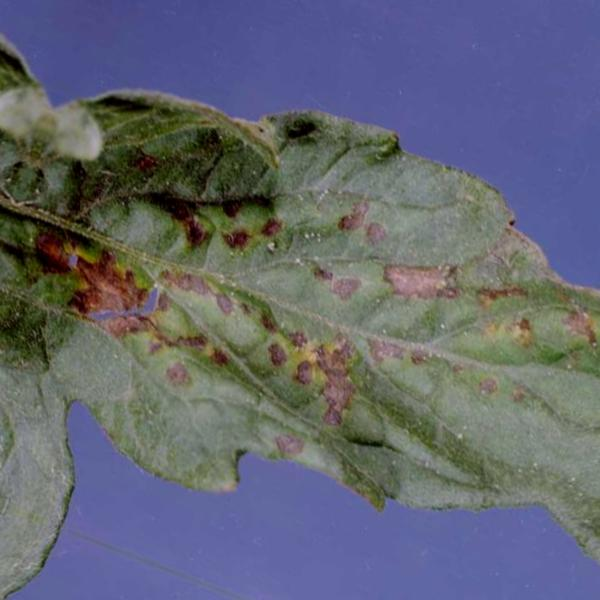Tomato leaf bacterial spot: (0, 7, 600, 600)
